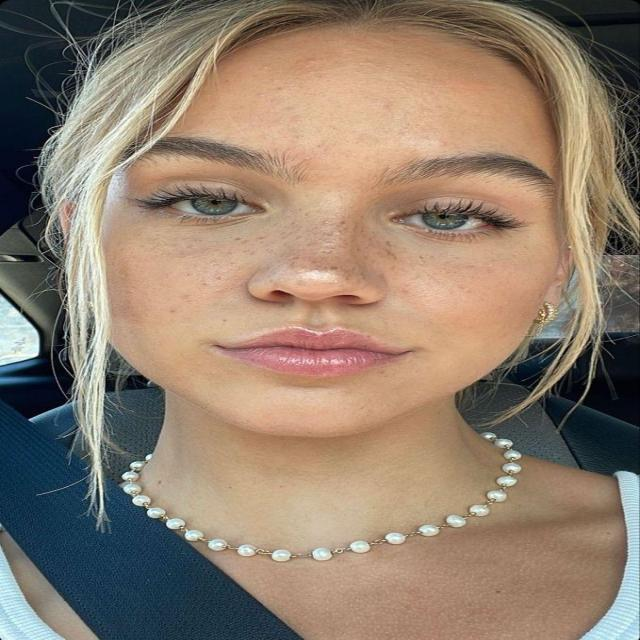freckle: (153, 213, 471, 298)
